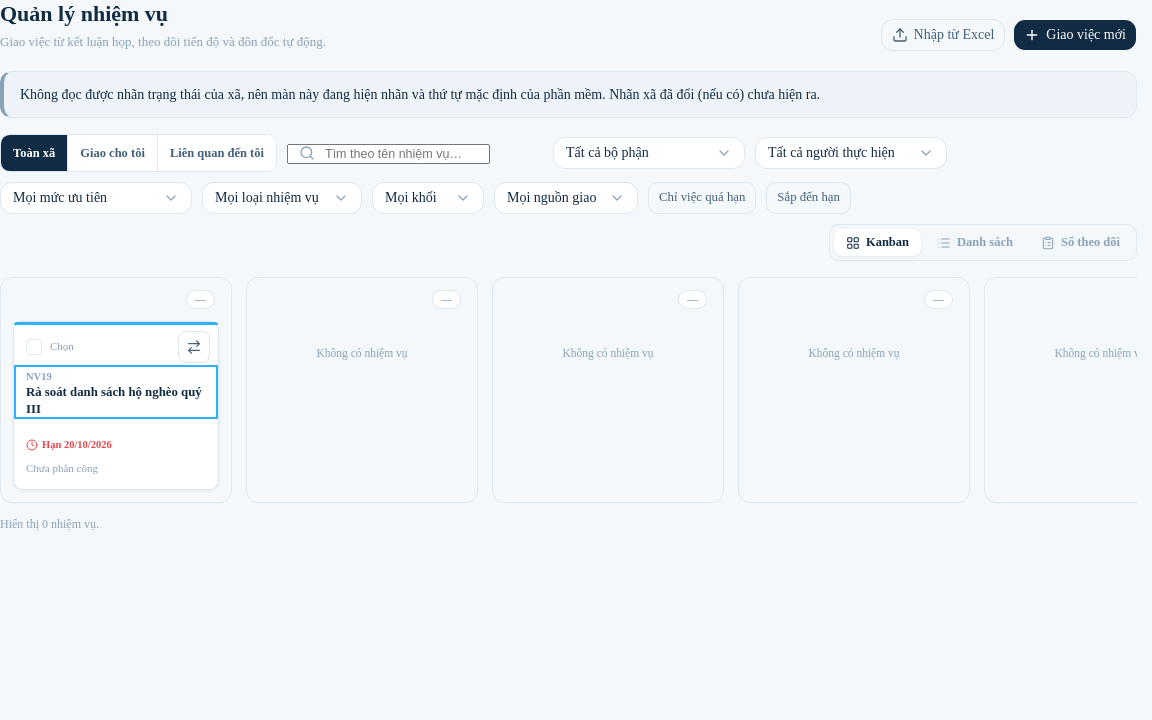
Scenario: the register opens the detail as a dialog › a click on the card opens the dialog, pushes `?task=`; ✕ goes Back and focus returns
Click the button "NV19 Rà soát danh sách hộ nghèo quý III" at [116, 392], box [14, 364, 218, 419]
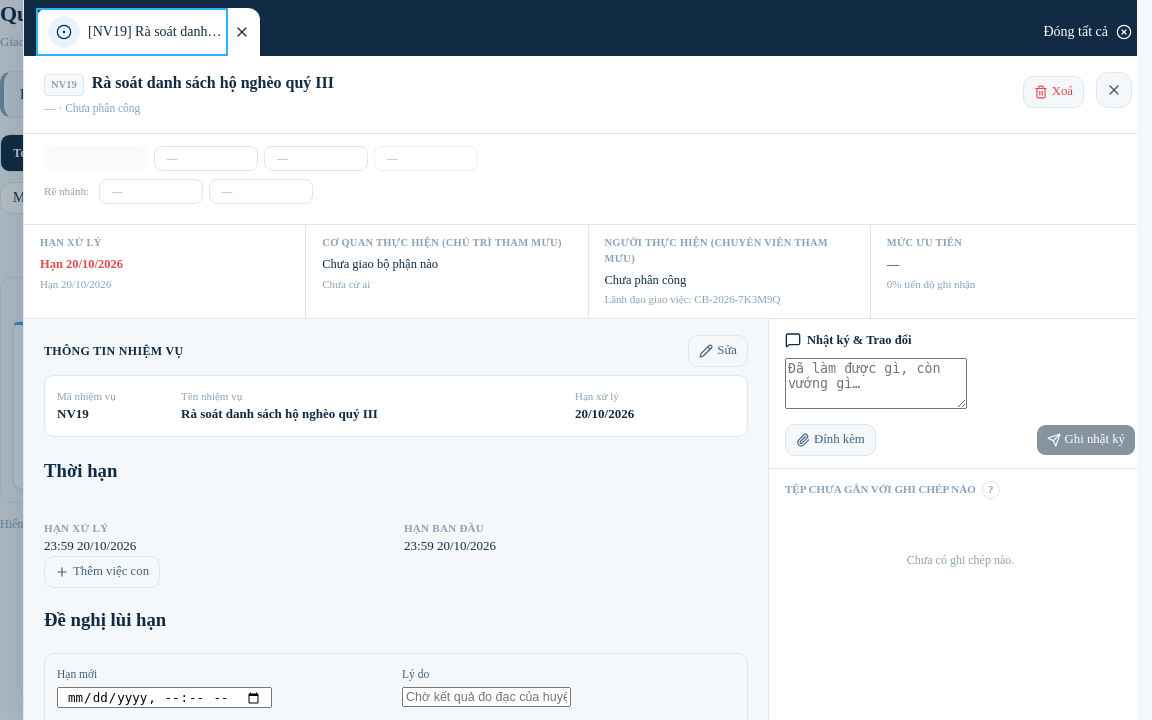
Now the dialog is shown
Now the heading "Rà soát danh sách hộ nghèo quý III" is shown, box [92, 72, 334, 94]
Now the header that starts with "NV19" is shown, box [51, 79, 77, 90]
Click the button named "Đóng" at [1114, 90], box [1096, 72, 1132, 108]
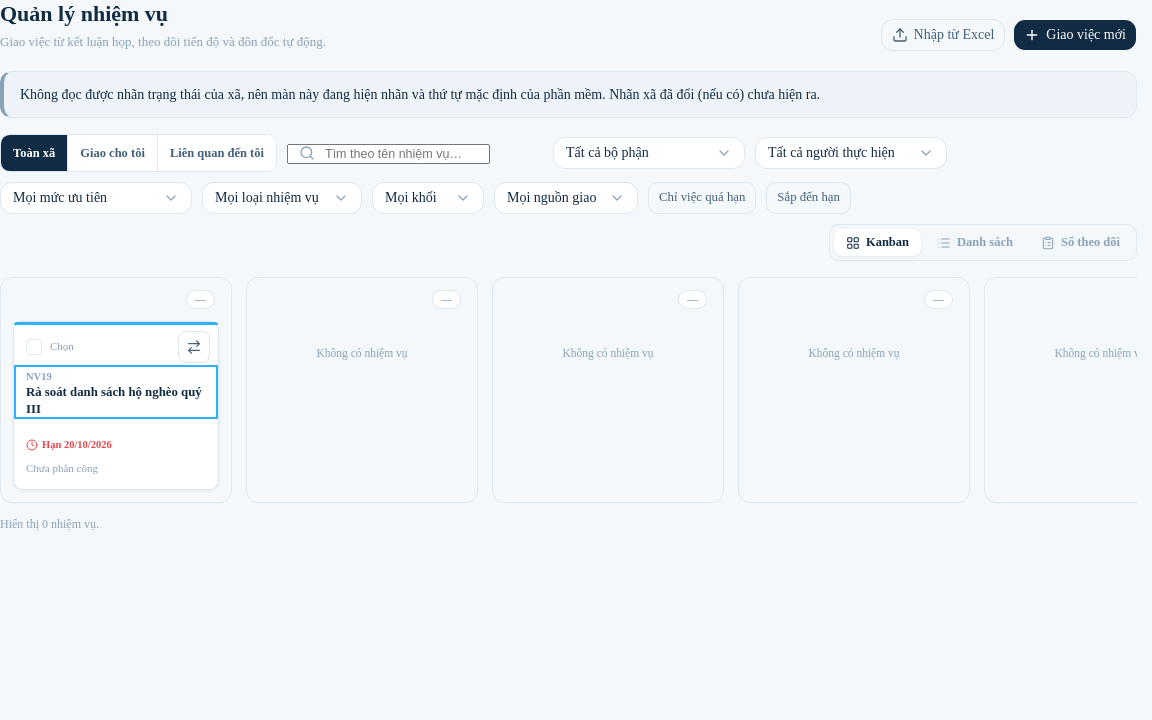
Now the dialog is gone
